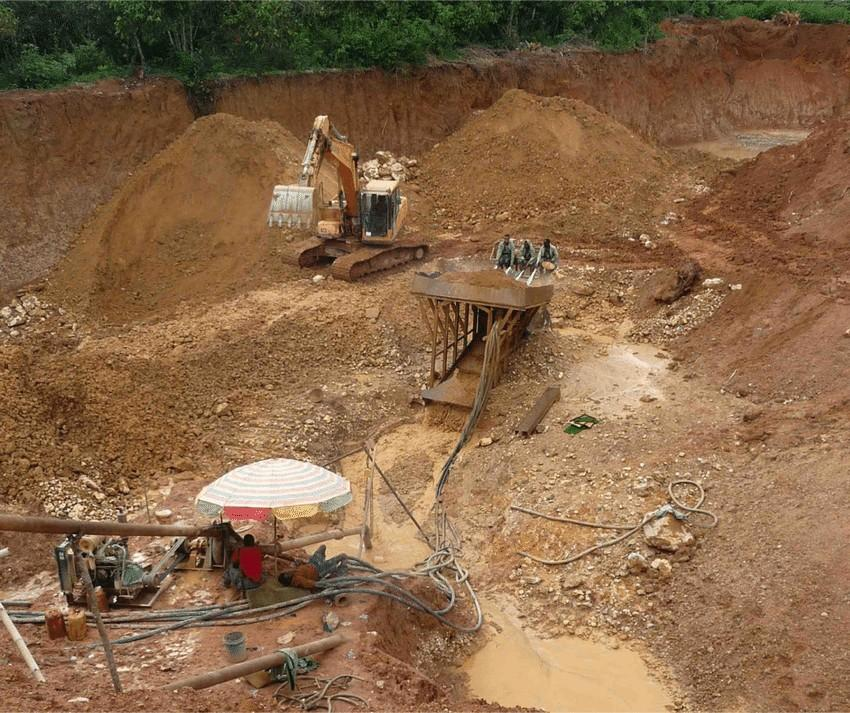ExcavationMachinery: (267, 113, 433, 286)
Person: (277, 545, 349, 591), (220, 535, 266, 593), (497, 234, 517, 270), (515, 237, 534, 269), (536, 236, 555, 268)
ProcessingEquipment: (406, 268, 553, 411)
Structure: (186, 453, 351, 596)
